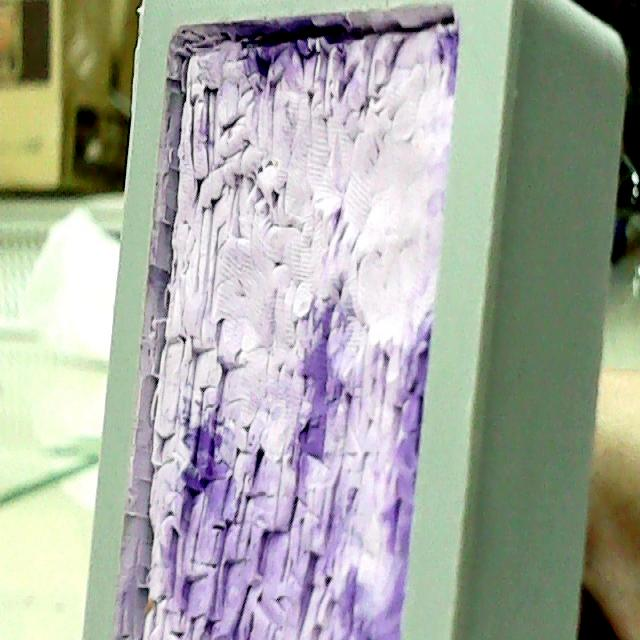block: (62, 0, 622, 640)
